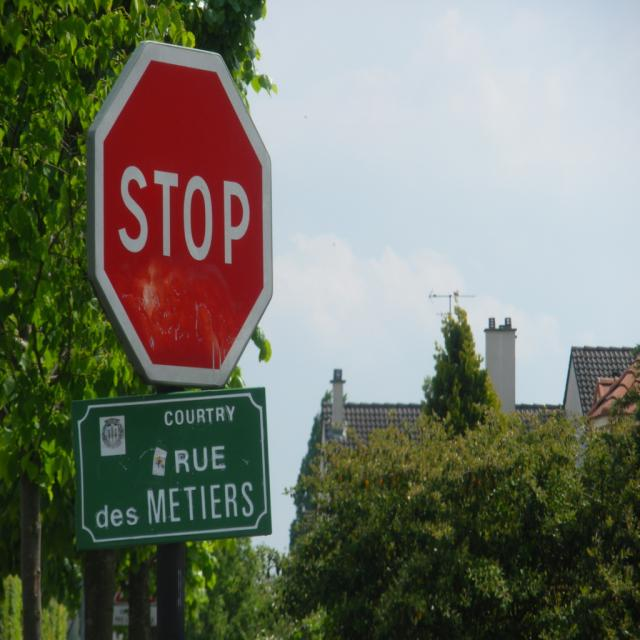Stop-sign: (87, 37, 273, 385)
